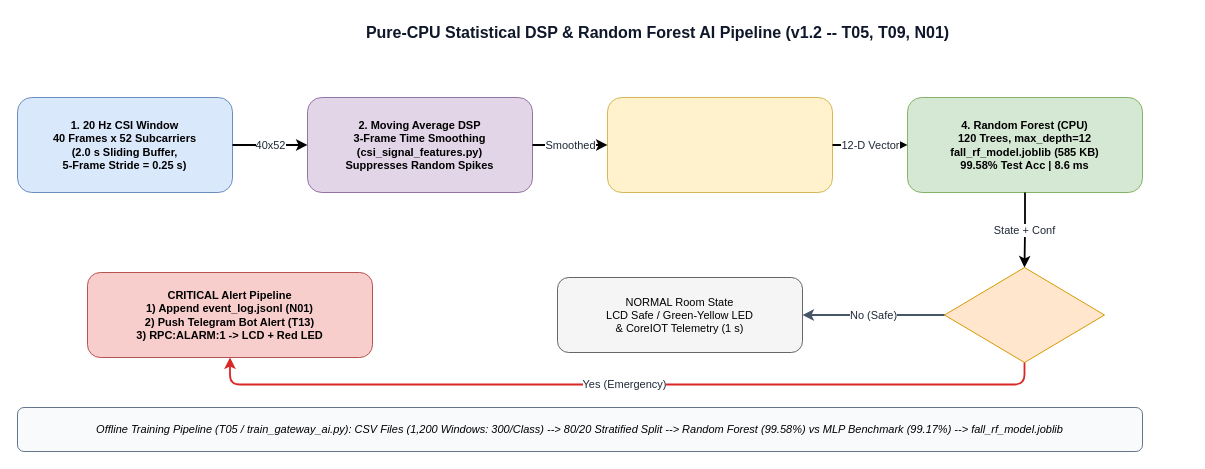
Some shapes in this 1205 by 469 pixel diagram are drawn without their labels. The shapes that lost their labels are listed below. From the top down, each one's centre as x and y in pixels, then its label:
the point at 719,144: 3. 12 Basic Features Std, Max-Min, Delta Max, Post-Peak Std, Peak-to-Tail Ratio
the point at 1024,314: FALL (>= 0.80) or SOS?
